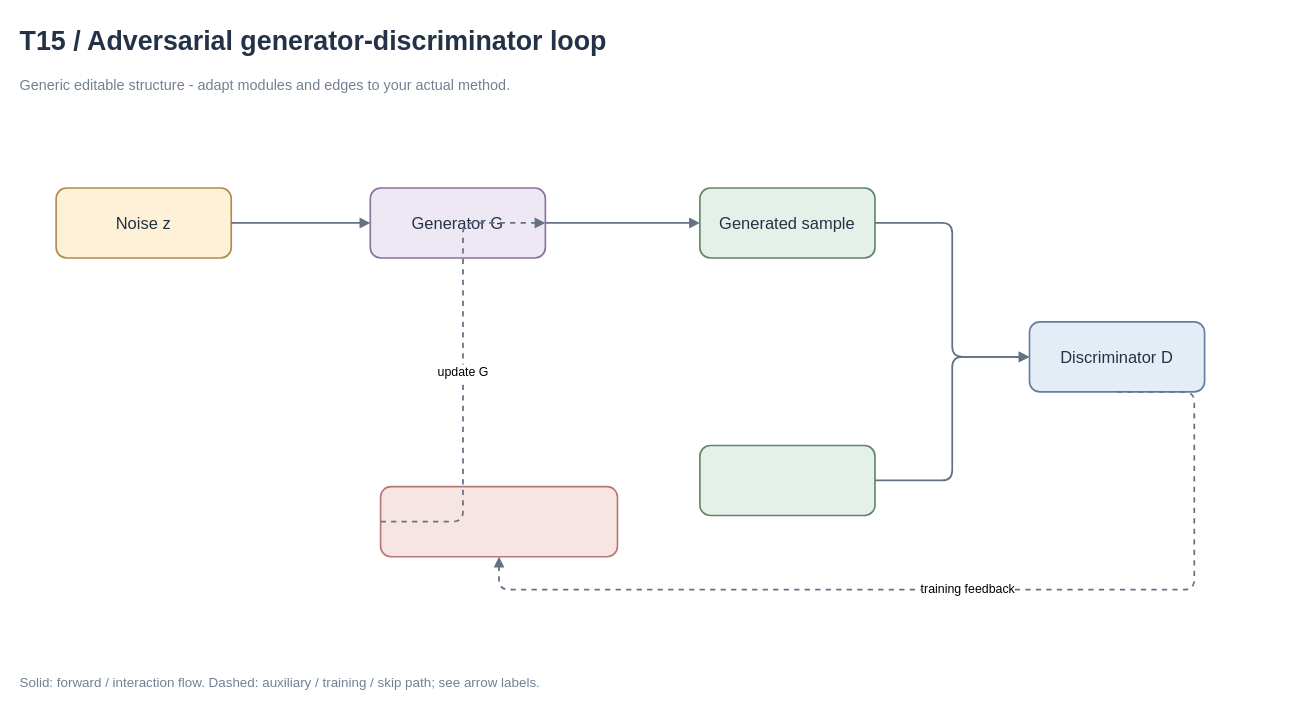
Image size: 1302x716. Some labels were removed from this diagram. Here are the shapes that lost their labels. From the top down, the centre of each, then its label:
At [787,480]: "Real sample".
At [498,521]: "Adversarial objective".
